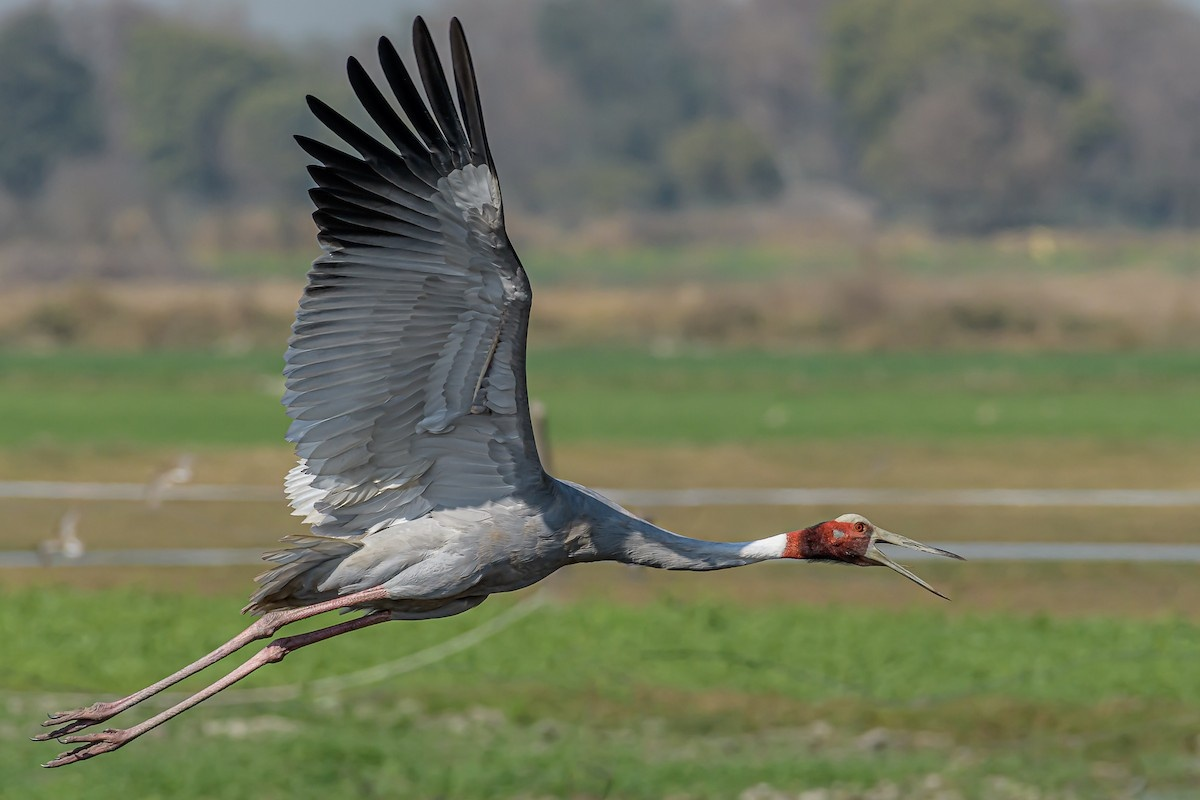crane: (34, 20, 997, 770)
